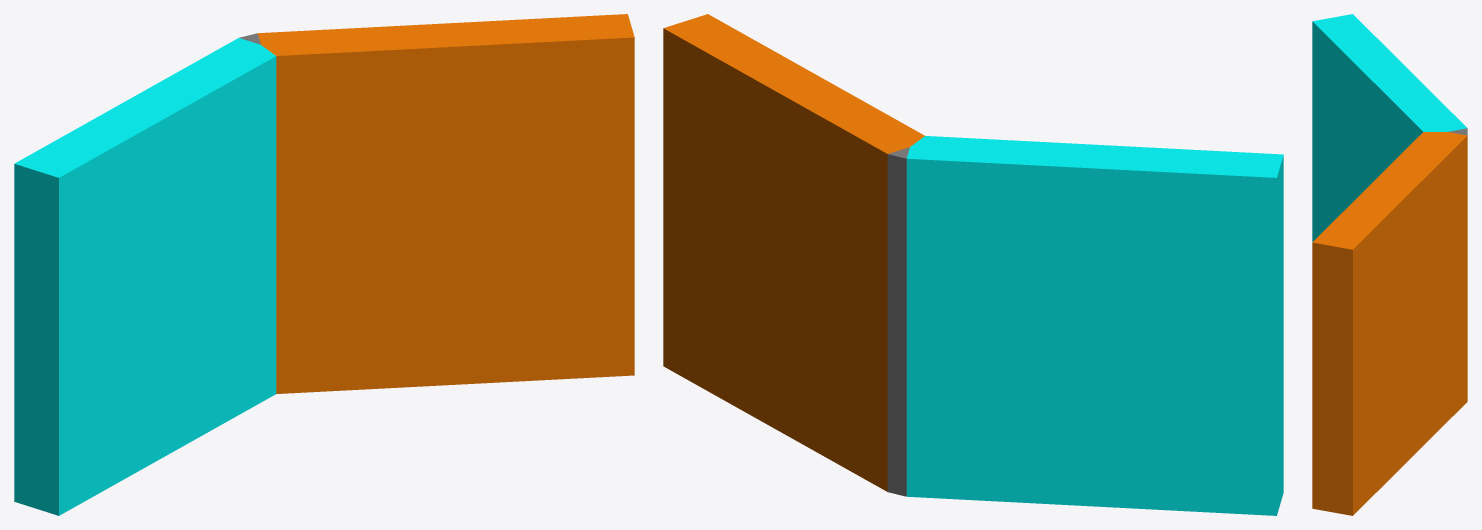
File: schalter2.obj
3 renders of one model, left to right at view 1: azimuth 30°, elevation 25°; view 2: azimuth 150°, elevation 25°; view 3: azimuth 270°, elevation 25°, orthographic. The views are drawn at different scales.
Visible parts, largest first — view 1: schalter2; view 2: schalter2; view 3: schalter2.
Part boxes in pixels (box(x1,y1,x2,y2)): schalter2: box(14, 14, 634, 515); schalter2: box(663, 14, 1283, 515); schalter2: box(1312, 14, 1467, 515).
Size of the model in its own units: 0.3039 by 0.16 by 0.0846.
